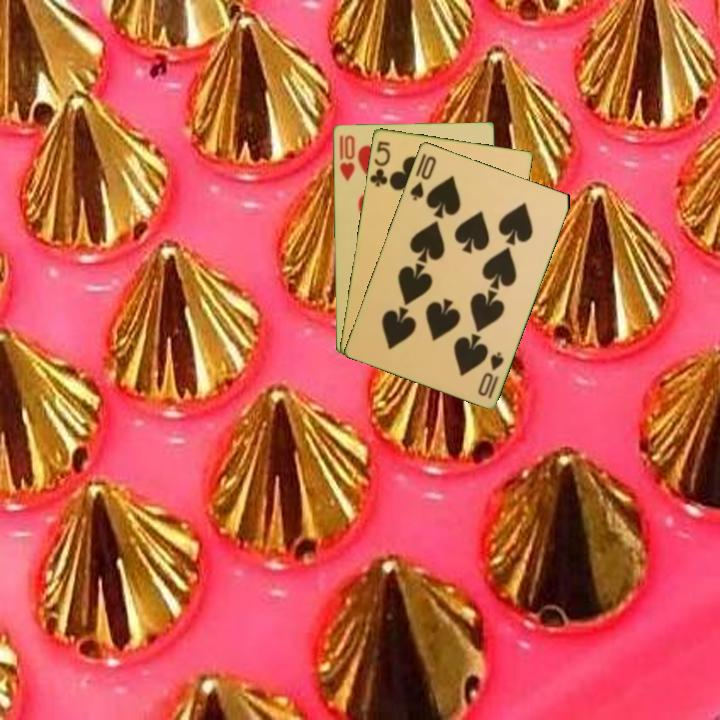10h: (336, 131, 357, 184)
10s: (474, 348, 506, 401), (406, 152, 439, 203)
5c: (366, 137, 393, 189)
